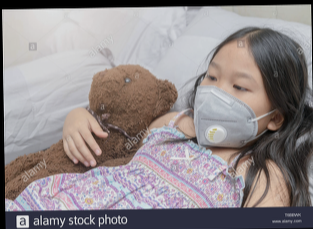with_mask: (191, 59, 272, 147)
